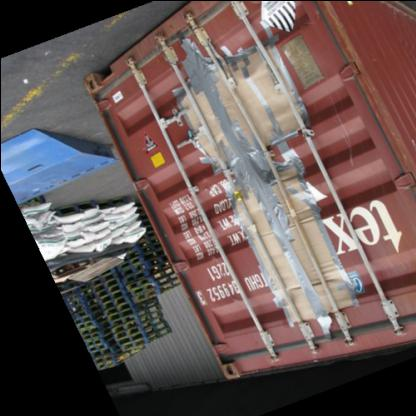Damage: (166, 27, 361, 327)
